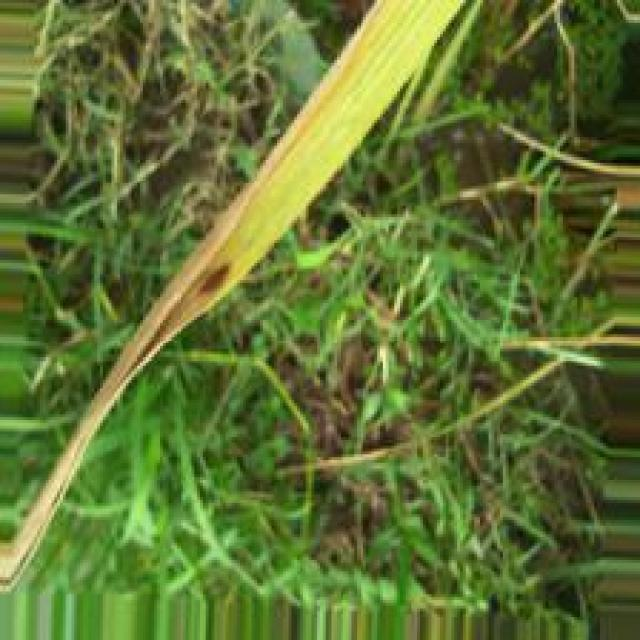Narrow_Brown_Leaf_Spot: (41, 2, 370, 498)
